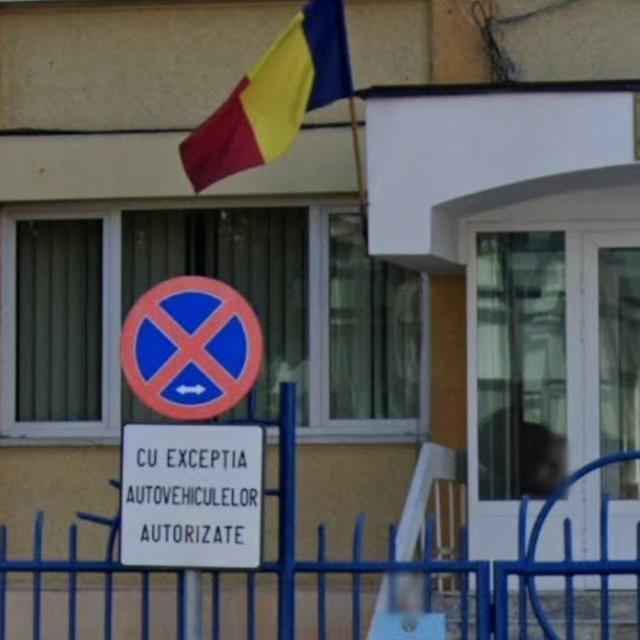forb_waiting: (119, 272, 265, 420)
